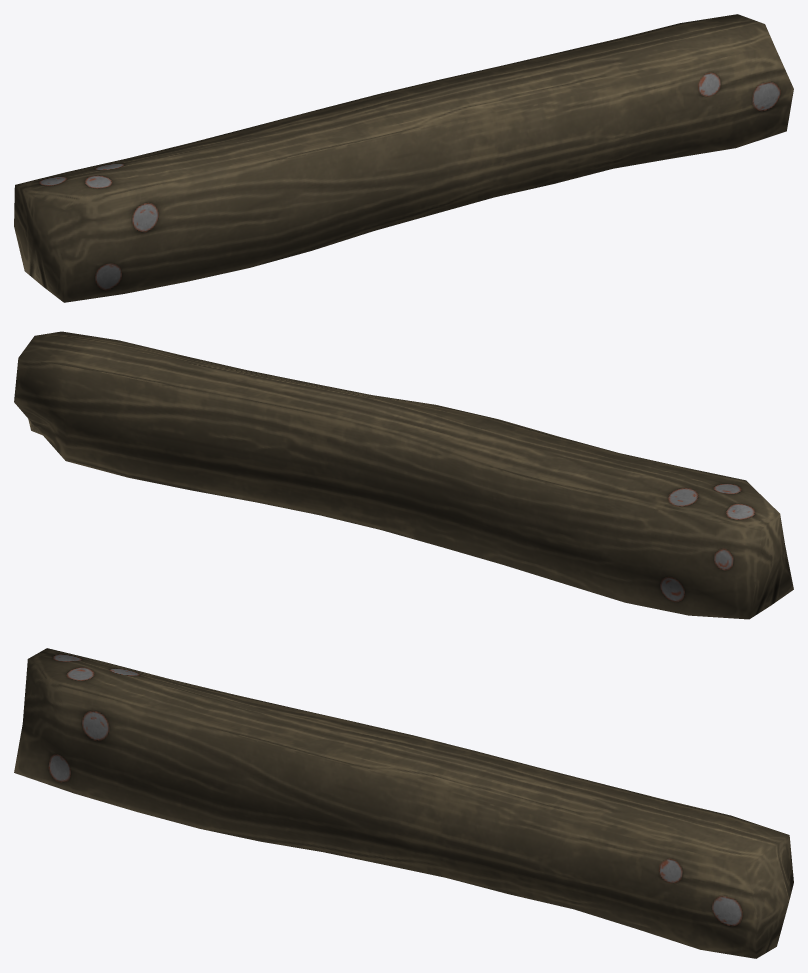
Rendered from wood_big_B.fbx.
3 views of the same model, one above another, from view 1: azimuth 30°, elevation 25°; view 2: azimuth 150°, elevation 25°; view 3: azimuth 330°, elevation 25° (orthographic). The views are drawn at different scales.
Visible parts, largest first — view 1: wood_big_B; view 2: wood_big_B; view 3: wood_big_B.
Boxes of the visible parts, x1,y1,x2,y2 form: wood_big_B: (14,14,793,302); wood_big_B: (14,331,793,619); wood_big_B: (14,648,793,958).
Size of what is drawn, in the model's own units: 344 by 50.34 by 44.82.
Materials: 1 (1 with a texture image).
